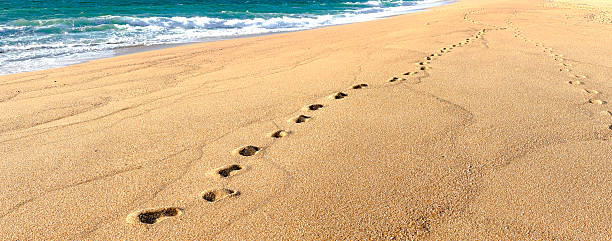human_foot_print: (506, 19, 588, 86), (402, 28, 486, 76), (528, 40, 587, 85), (528, 40, 586, 84), (126, 207, 182, 223), (201, 188, 239, 201), (388, 71, 426, 83), (213, 164, 243, 177), (236, 145, 260, 156), (289, 114, 311, 123), (303, 103, 325, 110), (291, 115, 310, 123), (416, 61, 431, 71), (304, 103, 324, 110), (270, 130, 289, 137), (332, 92, 348, 99), (306, 104, 323, 110), (589, 99, 606, 104), (552, 54, 564, 61), (583, 89, 599, 94), (352, 83, 367, 88), (600, 110, 611, 116), (389, 77, 404, 81), (560, 62, 572, 67), (403, 71, 418, 75), (568, 80, 583, 84), (572, 74, 586, 78), (417, 61, 429, 65), (419, 66, 428, 70), (559, 68, 571, 71), (425, 56, 432, 60), (608, 124, 611, 129), (347, 92, 352, 93)
